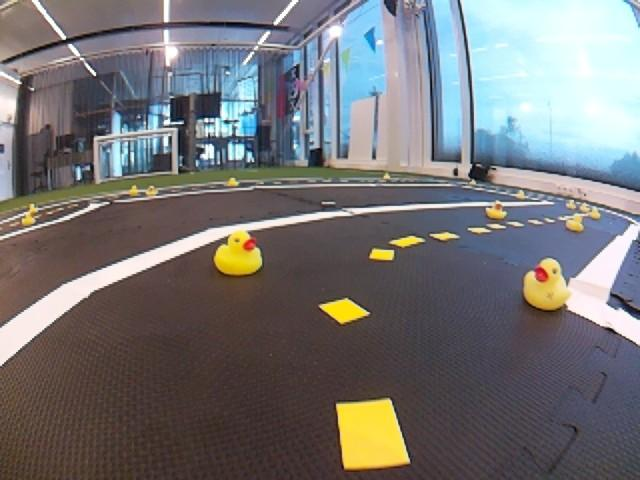Duckies: (523, 258, 570, 310), (213, 232, 261, 276), (487, 202, 507, 219), (565, 215, 584, 232), (21, 211, 36, 225), (589, 208, 600, 219), (227, 176, 239, 186), (147, 186, 159, 196), (128, 185, 138, 196), (566, 199, 577, 209), (26, 204, 37, 213), (581, 202, 590, 213), (383, 171, 391, 180), (516, 191, 525, 199), (469, 179, 476, 185)
